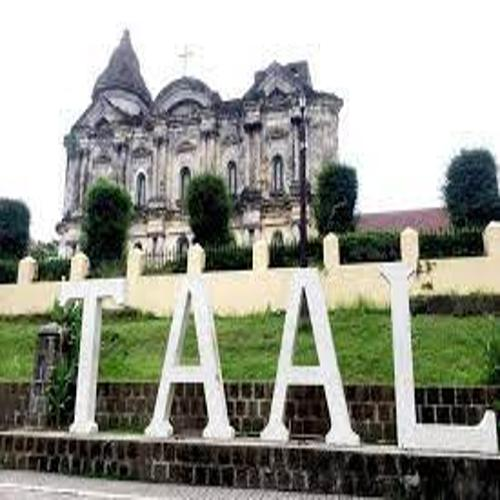Taal Basilica Church: (55, 15, 353, 264)
